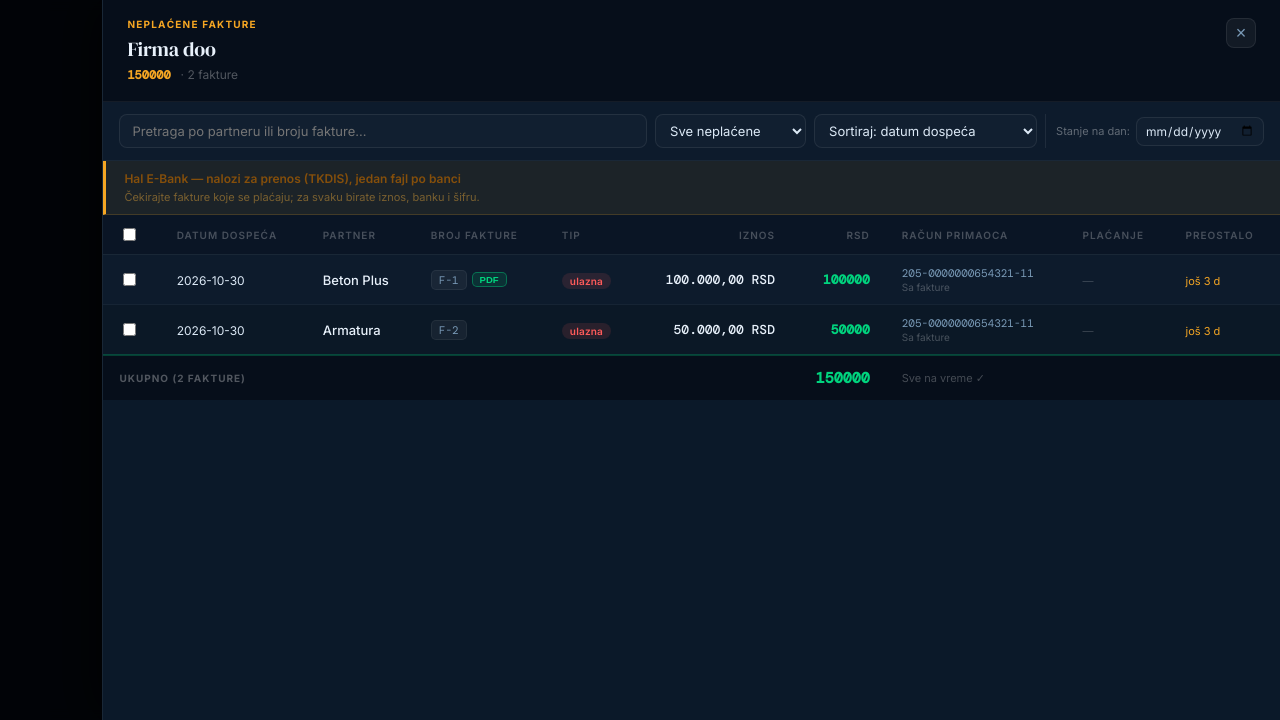
Test: paying unpaid bills › pays part of a bill, shows what stays, and sums only what is paid
expect the text "Beton Plus" is shown: met, box left=323, top=272, right=389, bottom=288
Click the checkbox named "Plati F-1": (130, 280) left=123, top=273, right=136, bottom=286
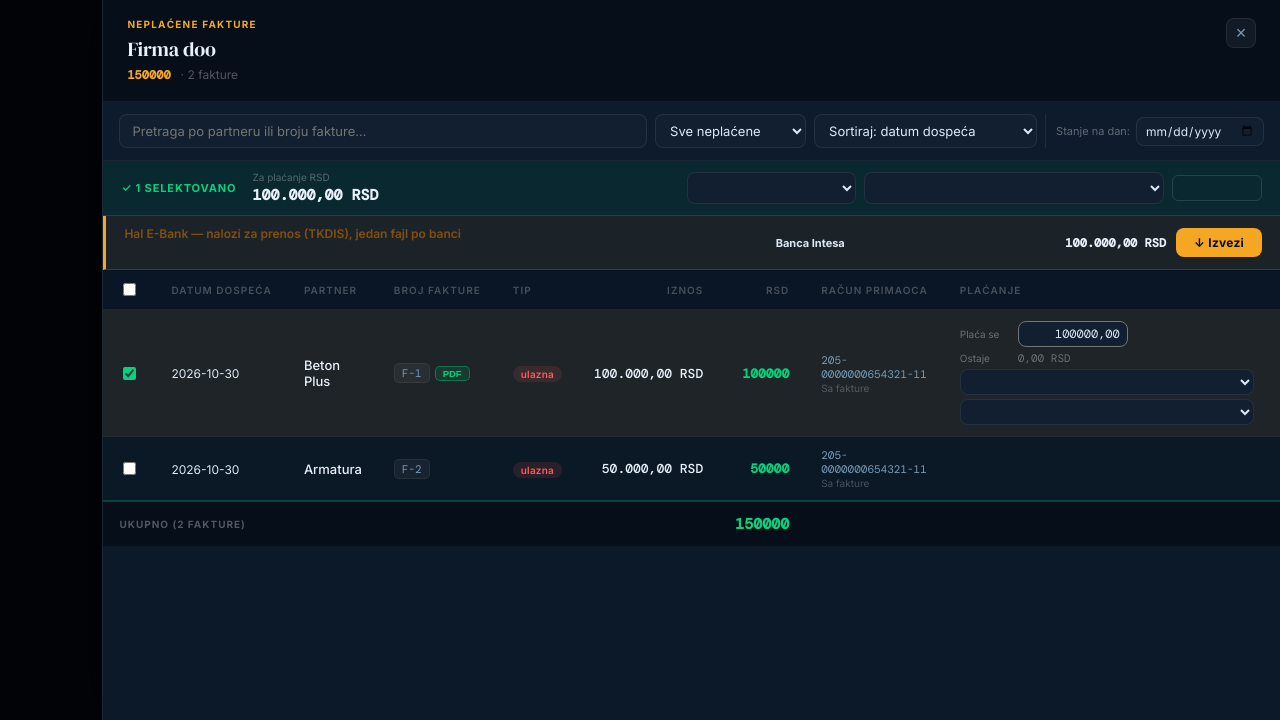
expect the field named "Iznos za plaćanje F-1" holds "100000,00": met
Replace the text in the field named "Iznos za plaćanje F-1" with "40.000,00": (1073, 334) left=1018, top=321, right=1128, bottom=347
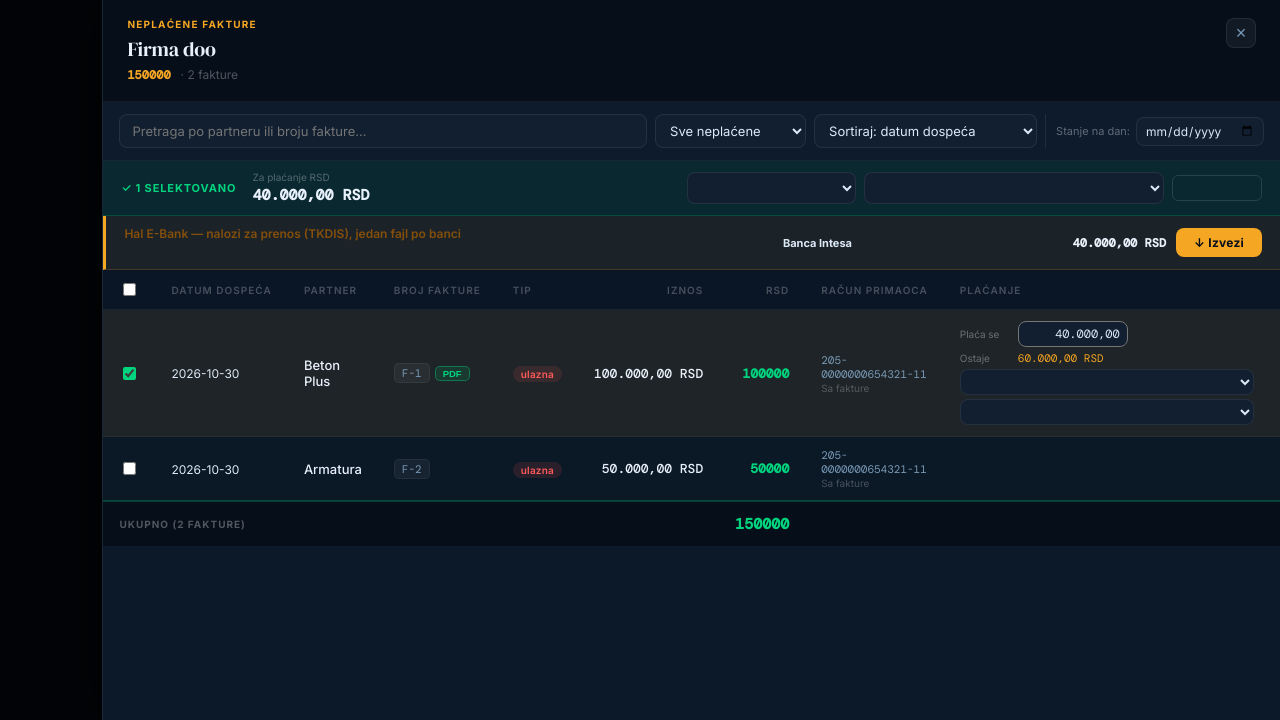
expect the text "40.000,00 RSD" is shown 2 times: met, box left=252, top=185, right=369, bottom=205; left=1072, top=234, right=1166, bottom=250
expect the text "60.000,00 RSD" is shown: met, box left=1018, top=351, right=1104, bottom=365
